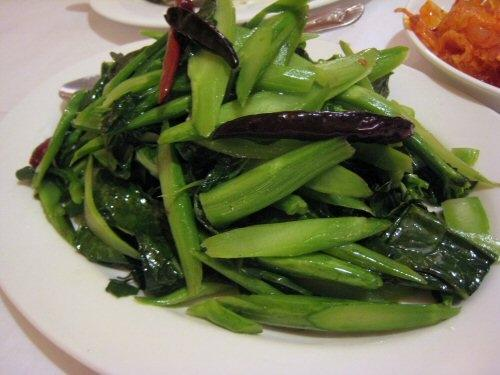hot pepper: (210, 110, 414, 144), (164, 5, 239, 68), (158, 0, 194, 106)
